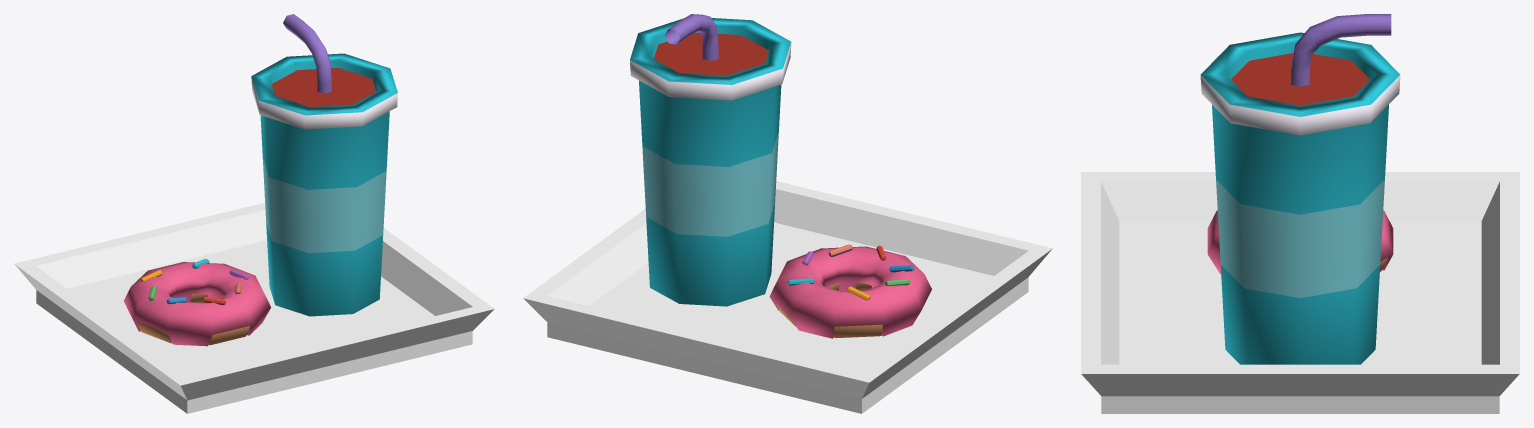
The model's file is Donut cake combo.fbx.
3 renders of one model, left to right at view 1: azimuth 30°, elevation 25°; view 2: azimuth 150°, elevation 25°; view 3: azimuth 270°, elevation 25°, orthographic. The views are drawn at different scales.
Visible parts, largest first — view 1: Donut_cake_combo; view 2: Donut_cake_combo; view 3: Donut_cake_combo.
Boxes of the visible parts, left/top/right/bottom form: Donut_cake_combo: left=14, top=14, right=494, bottom=413; Donut_cake_combo: left=523, top=14, right=1052, bottom=413; Donut_cake_combo: left=1081, top=14, right=1519, bottom=413.
Bounding box in the file's own units: 60.59 × 49.11 × 55.62.
